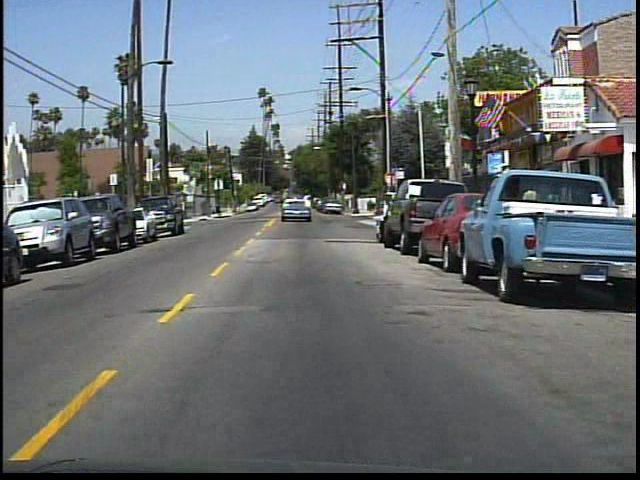person: (519, 178, 543, 234)
